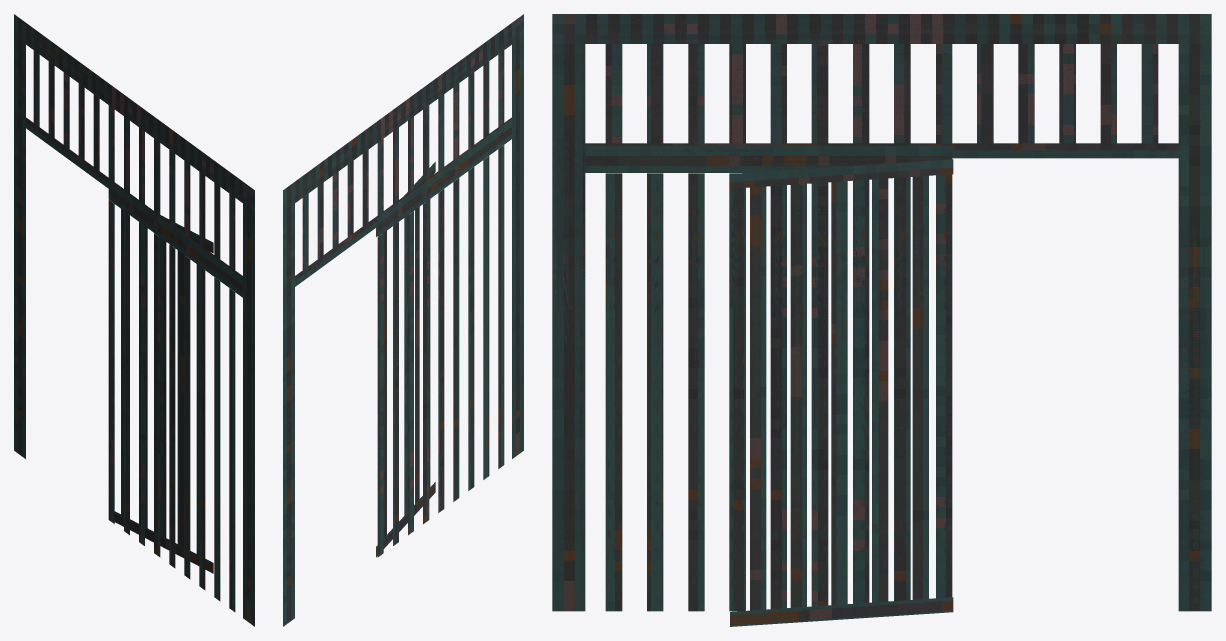
Rendered from BarsDoor.glb.
The picture shows the model from 3 angles, left to right: view 1: azimuth 30°, elevation 25°; view 2: azimuth 150°, elevation 25°; view 3: azimuth 270°, elevation 25°; orthographic projection. The views are drawn at different scales.
Visible parts, largest first — view 1: BarsDoor; view 2: BarsDoor; view 3: BarsDoor.
Boxes of the visible parts, box(x1,y1,x2,y2) form: BarsDoor: box(14, 14, 254, 626); BarsDoor: box(283, 14, 523, 626); BarsDoor: box(552, 14, 1211, 626).
Size of the model in its own units: 0.2247 by 4 by 4.
Materials: 1 (1 with a texture image).
